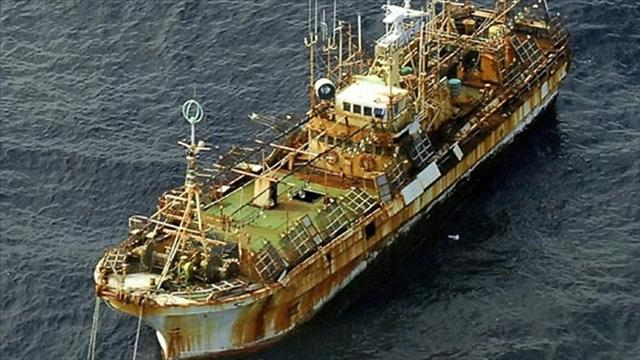rust: (311, 127, 394, 176), (314, 232, 367, 295), (154, 313, 190, 360), (245, 300, 299, 330), (480, 55, 502, 86)
